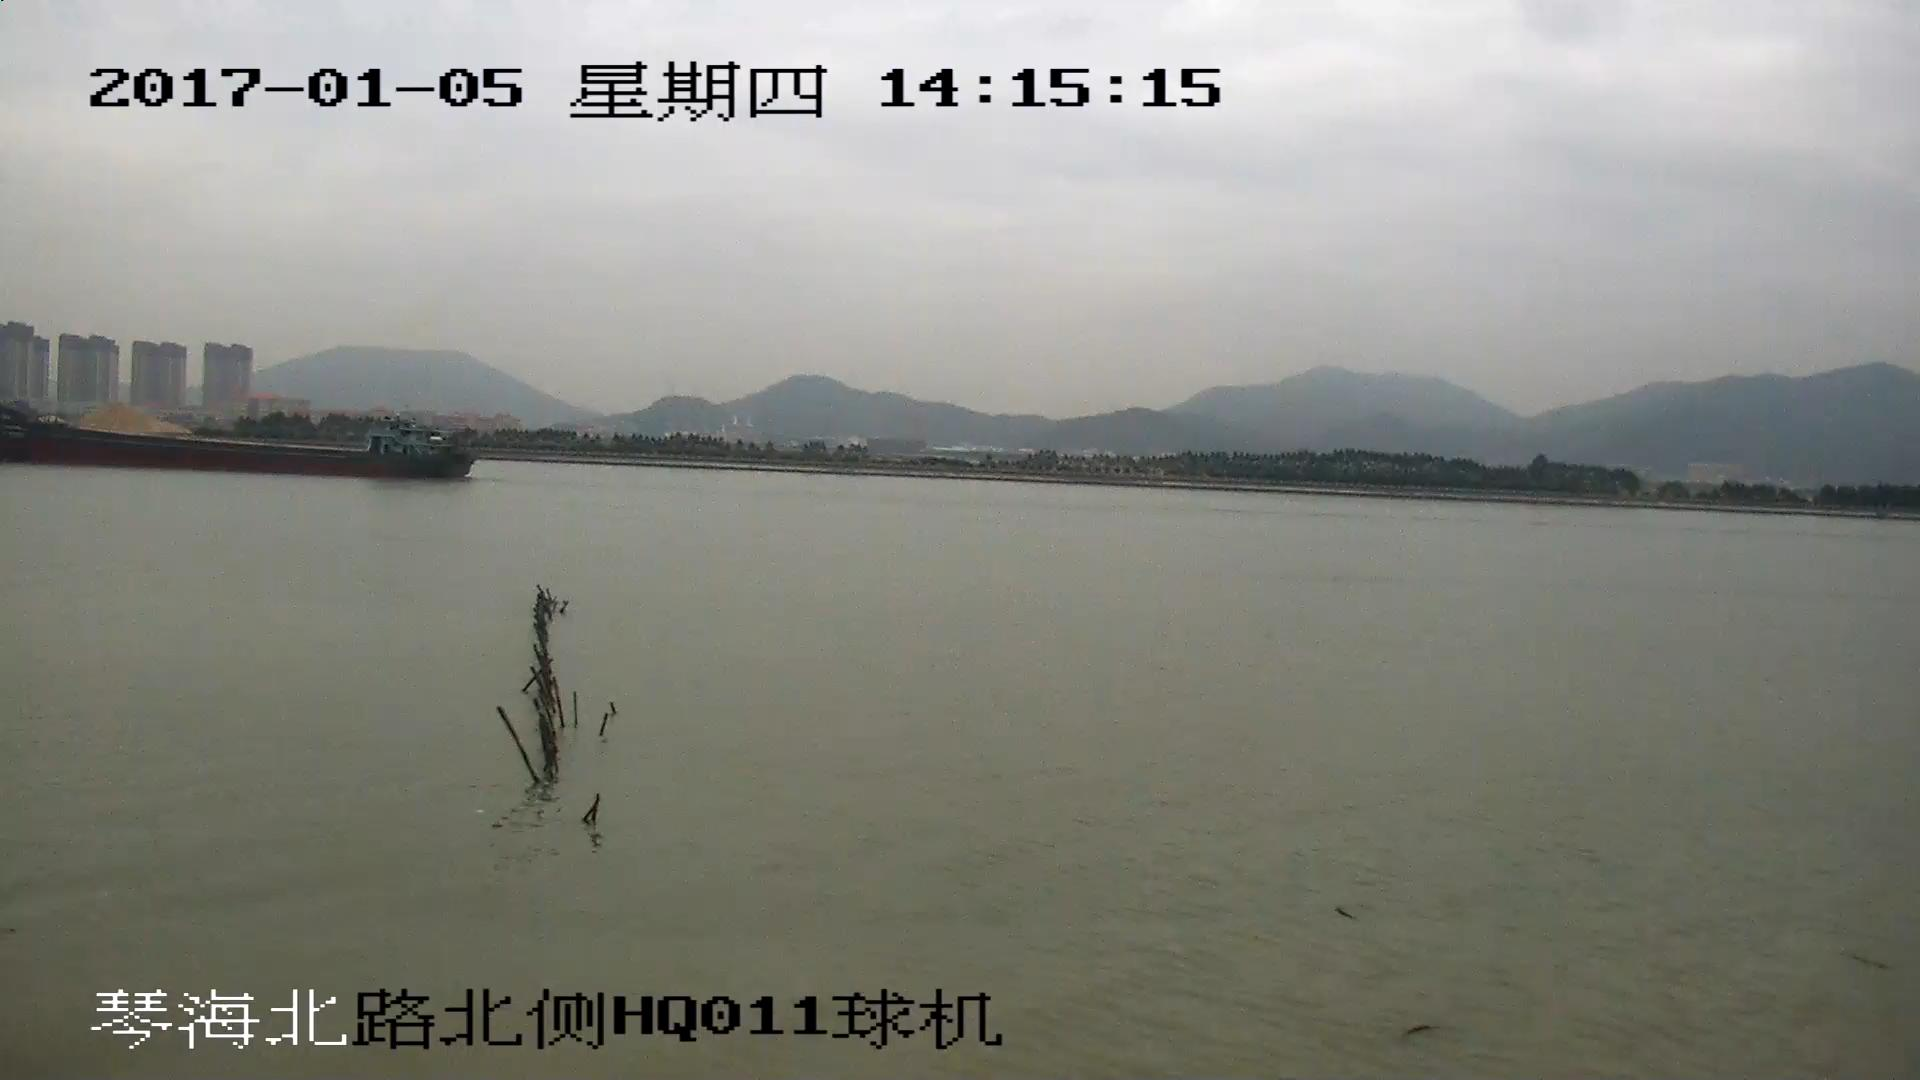bulk cargo carrier: (1, 417, 472, 479)
